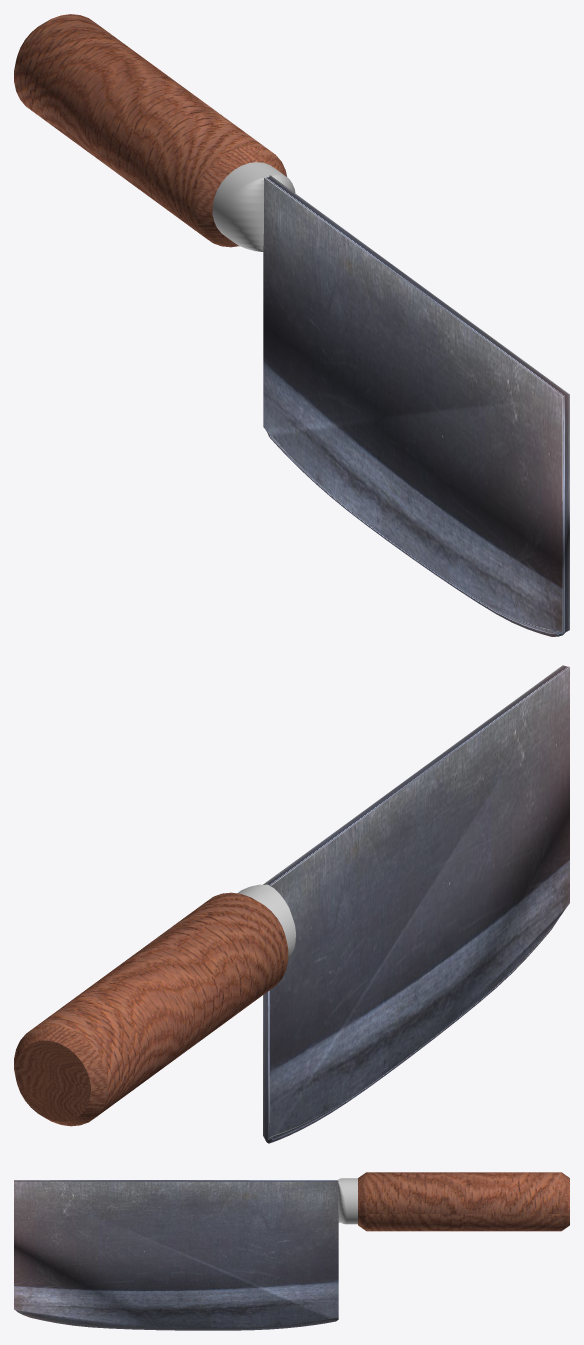
Rendered from meat chopper.obj.
3 views of the same model, one above another, from view 1: azimuth 30°, elevation 25°; view 2: azimuth 150°, elevation 25°; view 3: azimuth 270°, elevation 25° (orthographic). The views are drawn at different scales.
Visible parts, largest first — view 1: clever; view 2: clever; view 3: clever.
Boxes of the visible parts, x1=… form: clever: x1=14, y1=14, x2=569, y2=636; clever: x1=14, y1=665, x2=569, y2=1143; clever: x1=14, y1=1172, x2=569, y2=1330.
Size of the model in its own units: 3.48 by 10.17 by 32.9.
